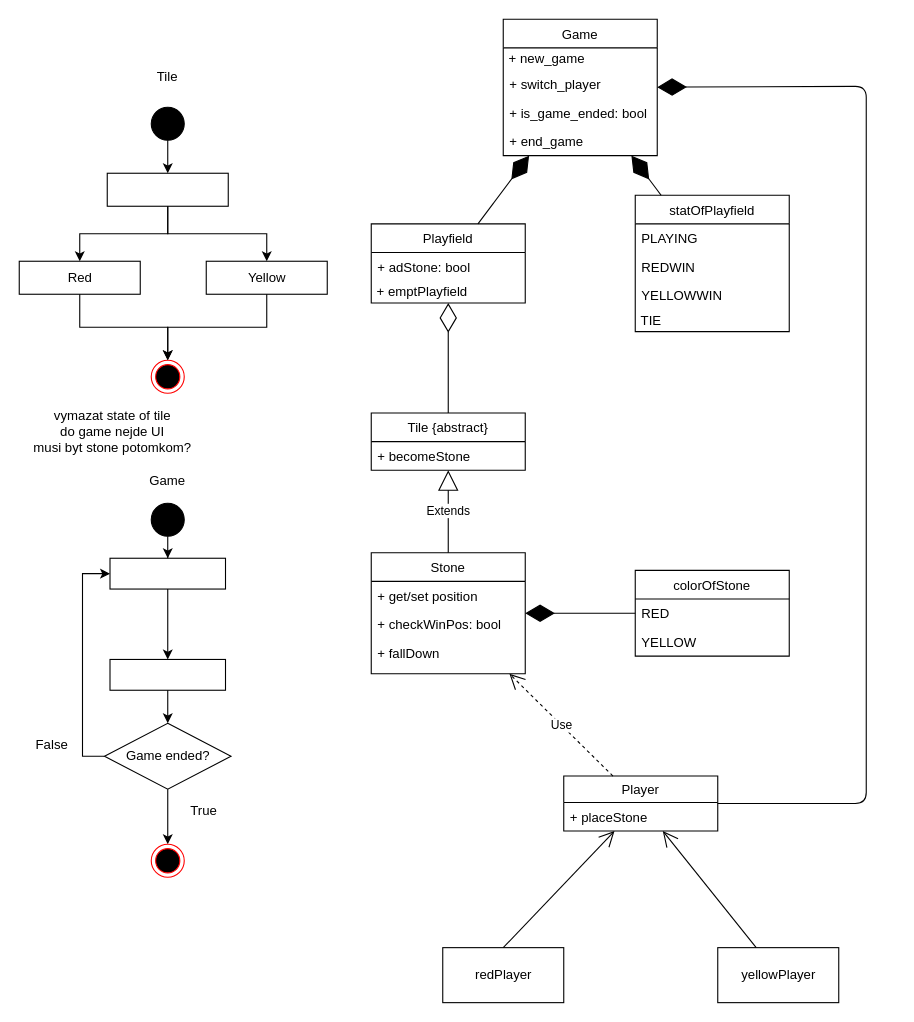
The diagram is 914 pixels wide and 1022 high, and some of its shapes have lost their labels. Here are the shapes that lost their labels. From the top down, the centre of each, then its label:
At pixel 167 189: "Empty".
At pixel 167 573: "Player 1".
At pixel 167 674: "Player 2".
